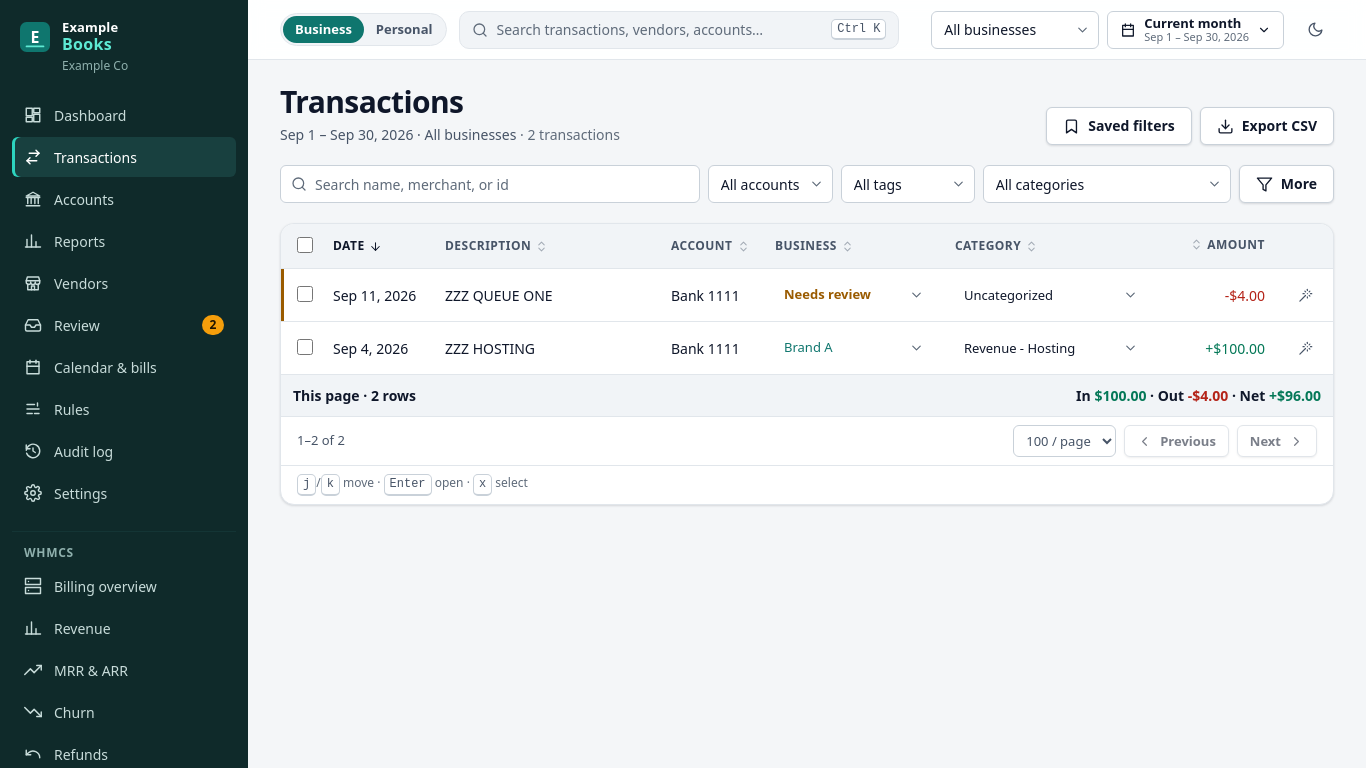
Test: classification flows › bulk-classifies selected rows
expect the text "ZZZ QUEUE ONE" is shown: met, box [445,286,553,304]
Click the checkbox named "Select all rows on this page": (305, 245) [297,237,313,253]
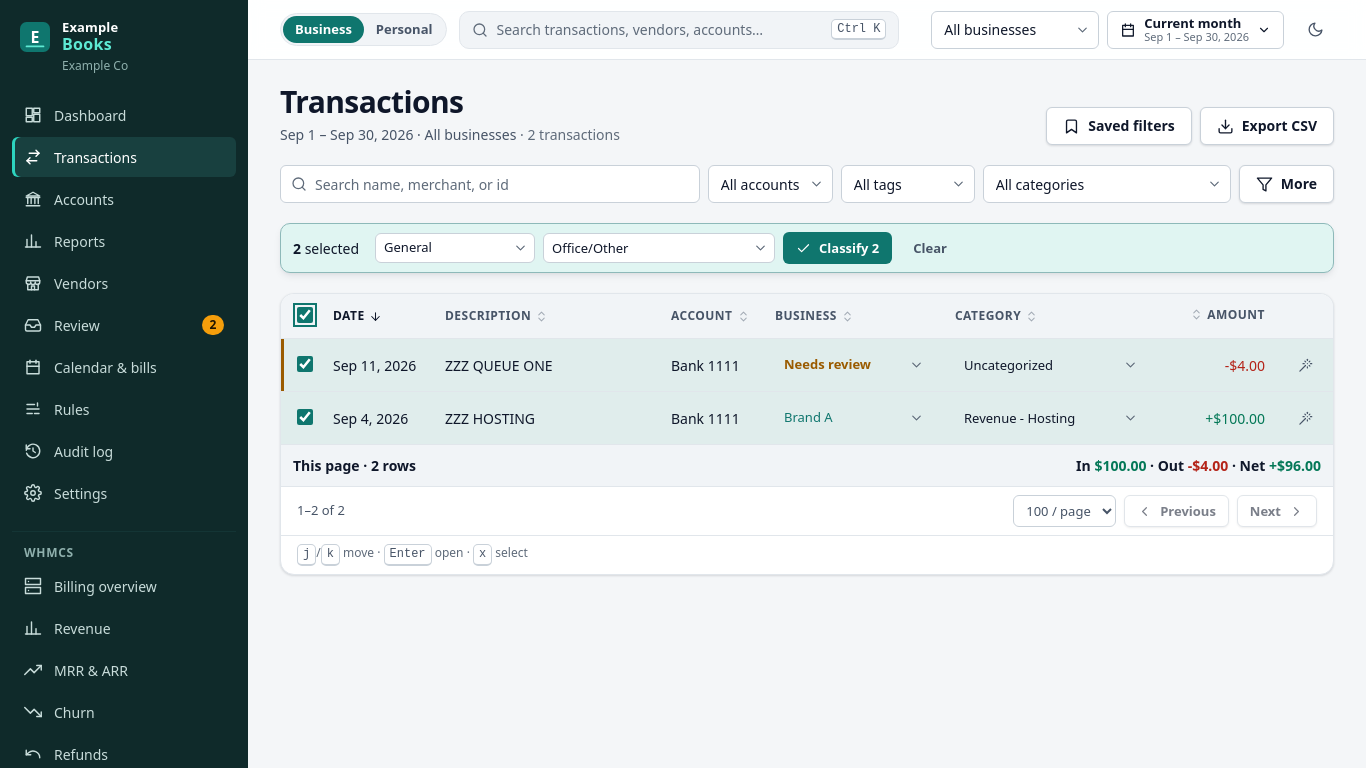
In the dropdown named "Category for selected": (659, 248) [543,233,775,263], type "software"
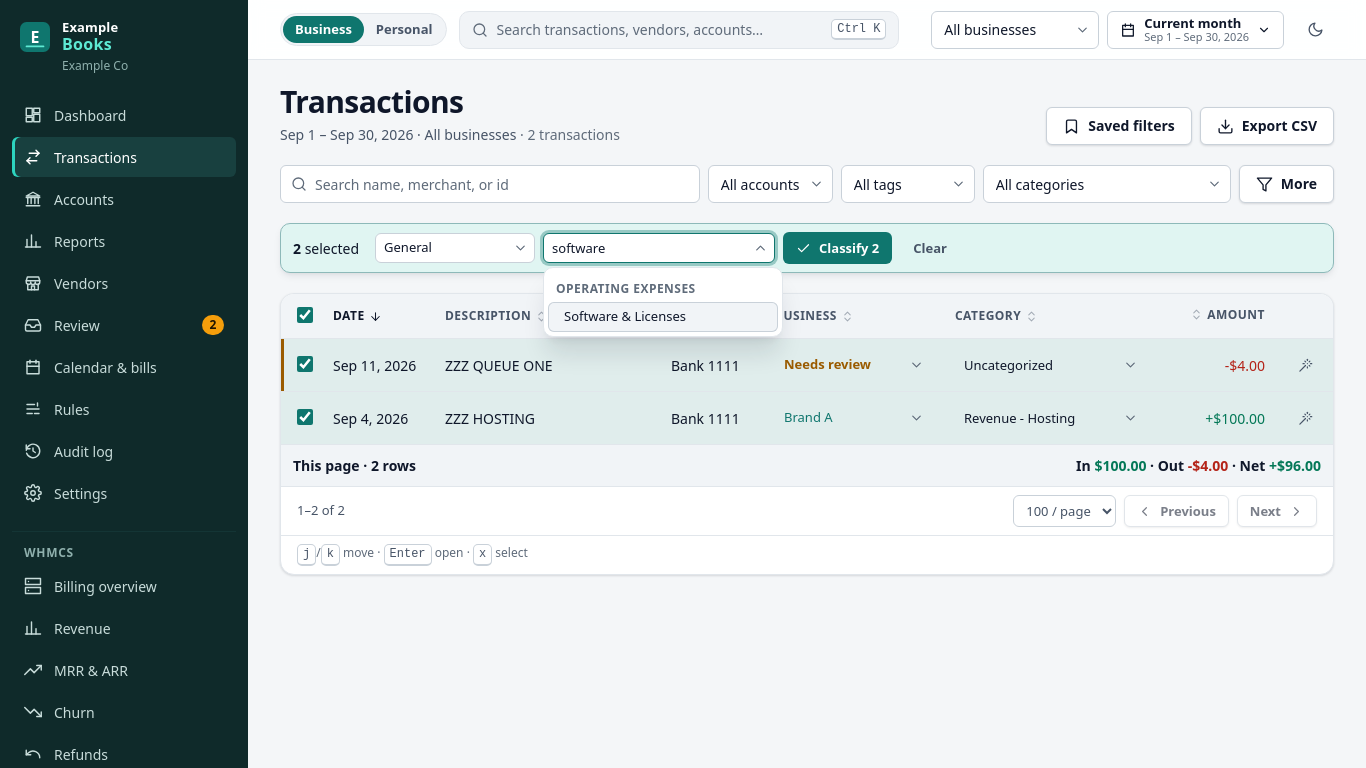
Click the option "Software & Licenses": (663, 317) [548,302,778,332]
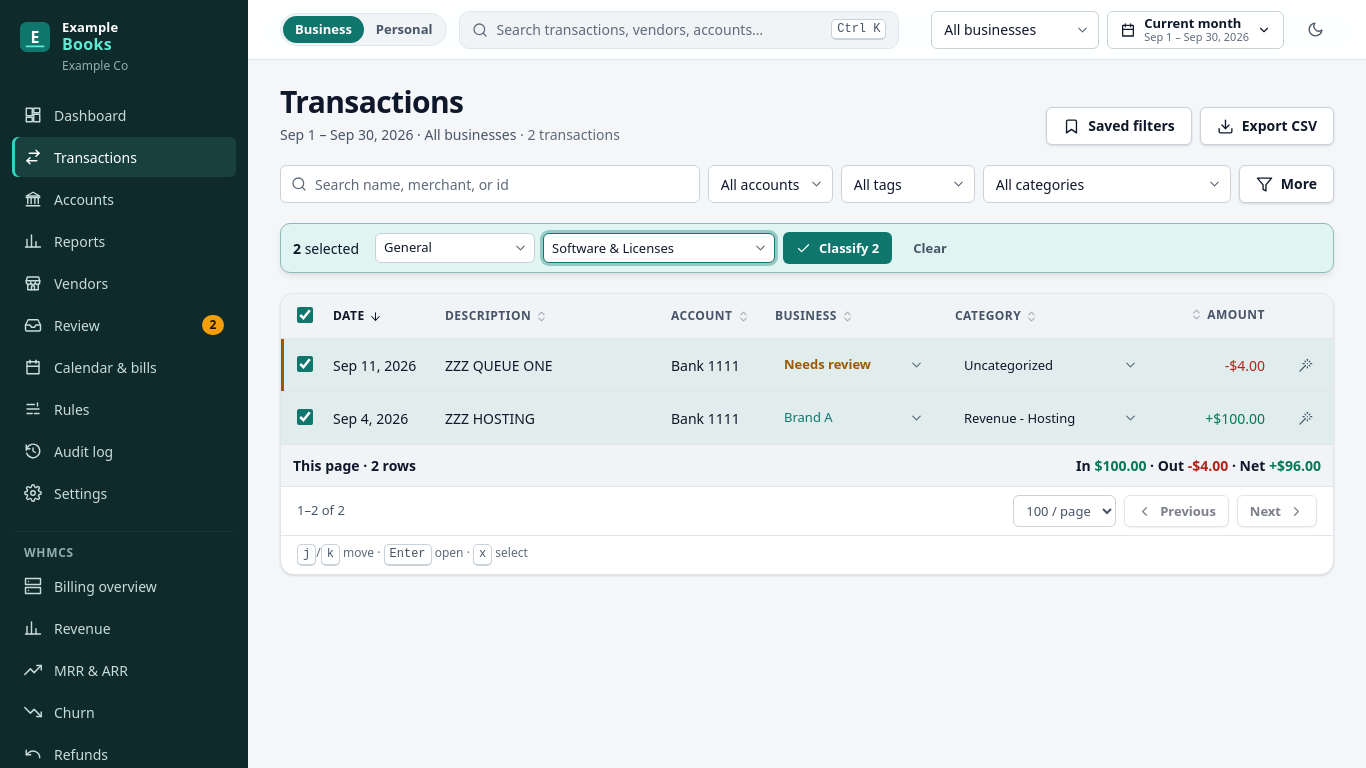
Click the button "Classify 2": (838, 248) [783,232,892,264]
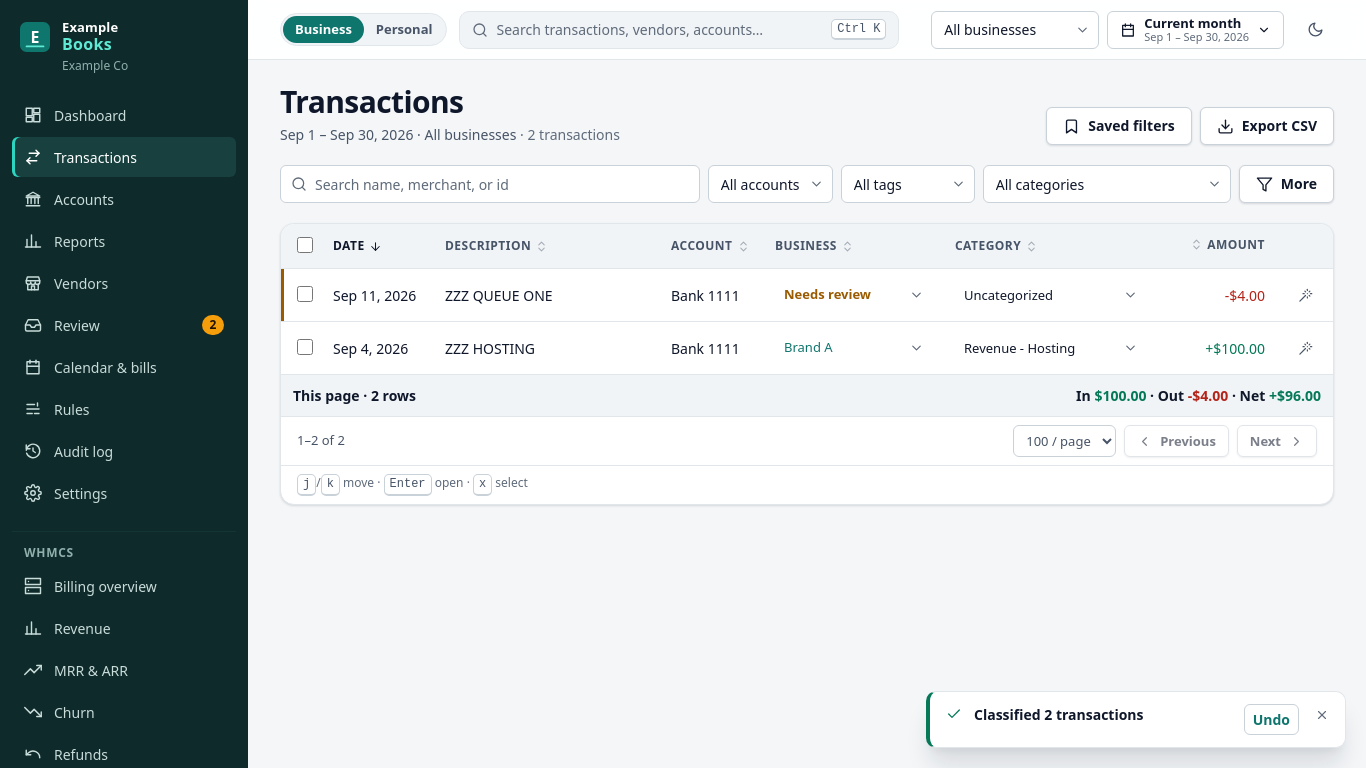
expect the text "Classified 2 transactions" is shown: met, box [974,705,1144,724]
